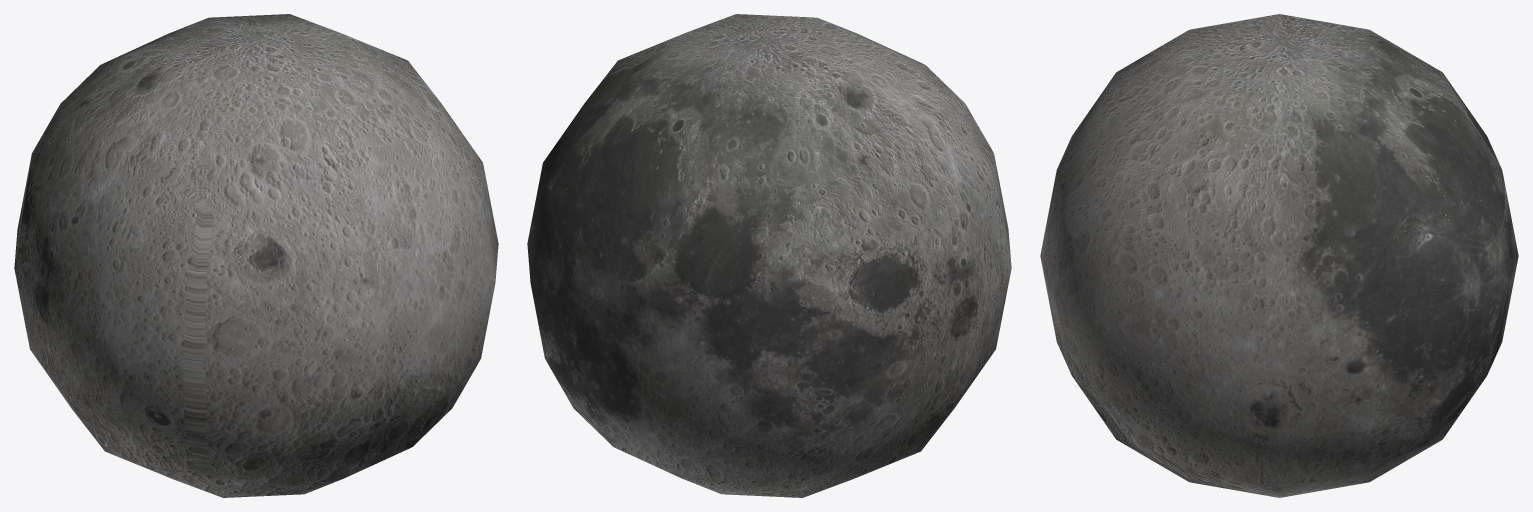
File: Moon.glb
The picture shows the model from 3 angles, left to right: view 1: azimuth 30°, elevation 25°; view 2: azimuth 150°, elevation 25°; view 3: azimuth 270°, elevation 25°; orthographic projection.
Visible parts, largest first — view 1: Cube; view 2: Cube; view 3: Cube.
Boxes of the visible parts, x1,y1,x2,y2 form: Cube: (14, 14, 498, 497); Cube: (527, 14, 1011, 497); Cube: (1040, 14, 1518, 497).
Bounding box in the file's own units: 1.68 × 1.68 × 1.68.
Materials: 1 (1 with a texture image).
